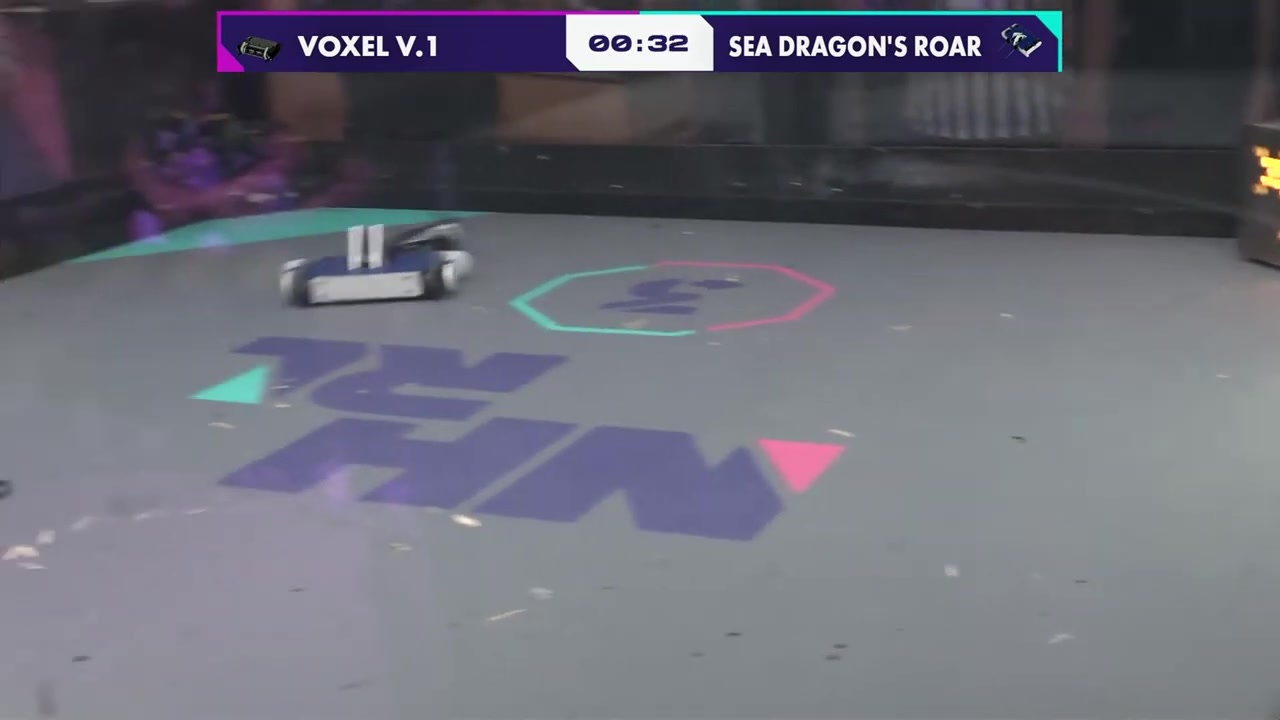combatbot: (280, 221, 476, 308)
housebot: (1231, 122, 1280, 272)
